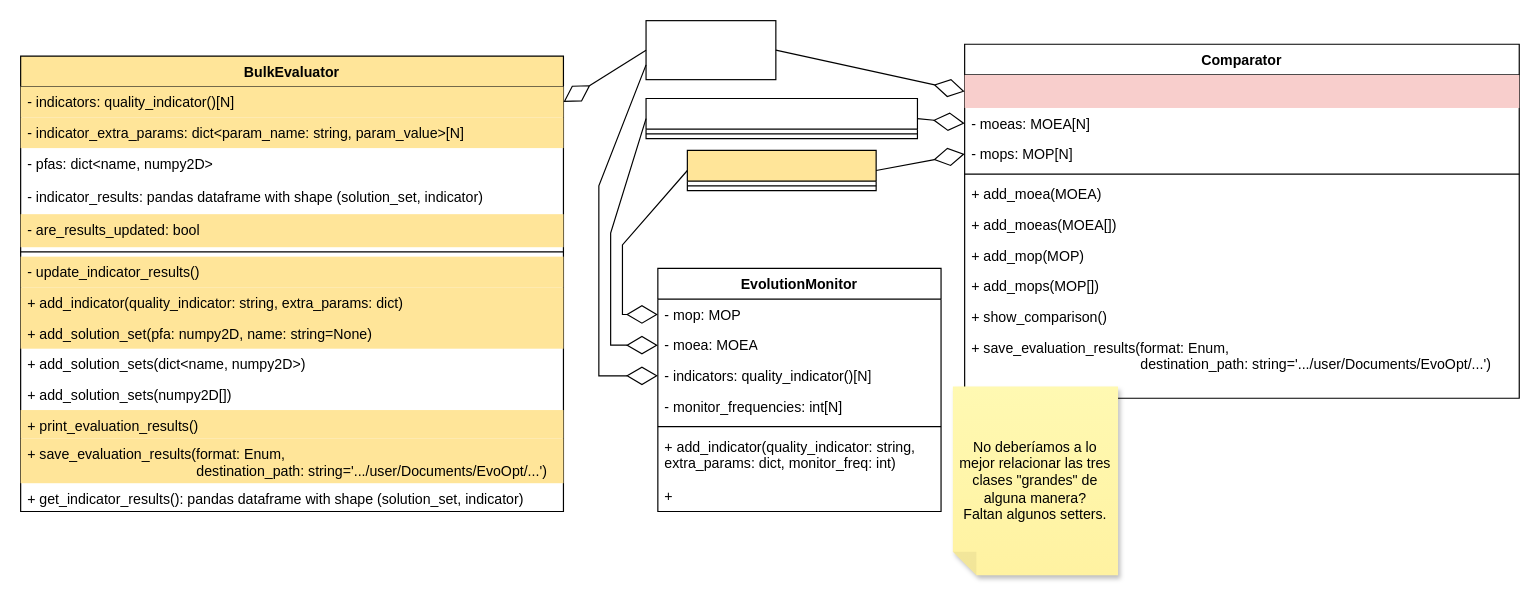
The diagram is 1540 pixels wide and 604 high, and some of its shapes have lost their labels. The shapes that lost their labels are listed below. From the top down, each one's centre as x and y in pixels, then its label:
the point at 710,49: quality_indicator()
the point at 1241,90: - indicator: quality_indicator() = hypervolume
the point at 781,118: MOEA
the point at 781,170: MOP
